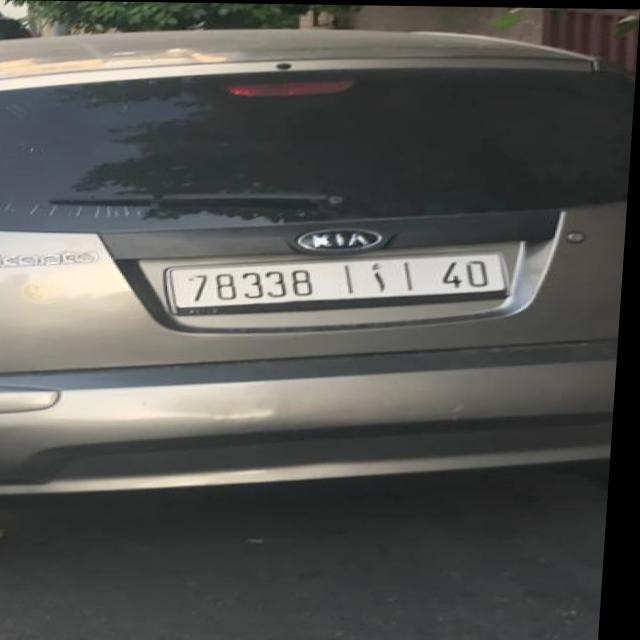License-Plate: (171, 251, 507, 314)
